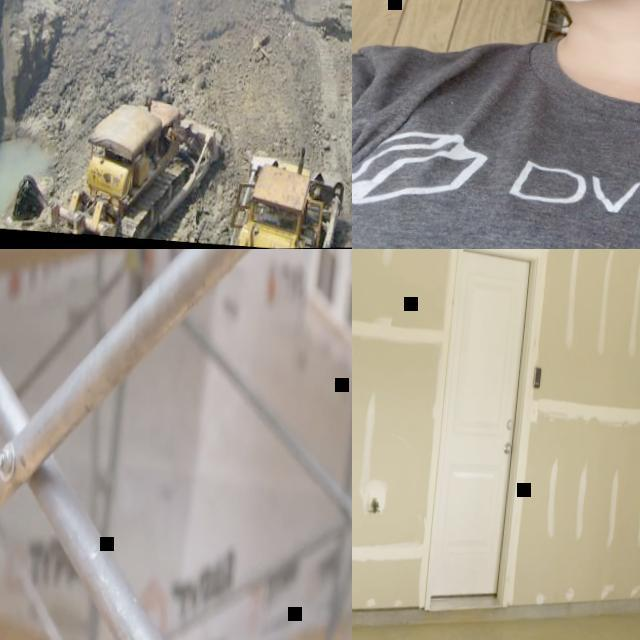machinery: (52, 84, 225, 245), (224, 138, 347, 249)
no_vest: (352, 22, 640, 249)
person: (352, 0, 640, 249)
